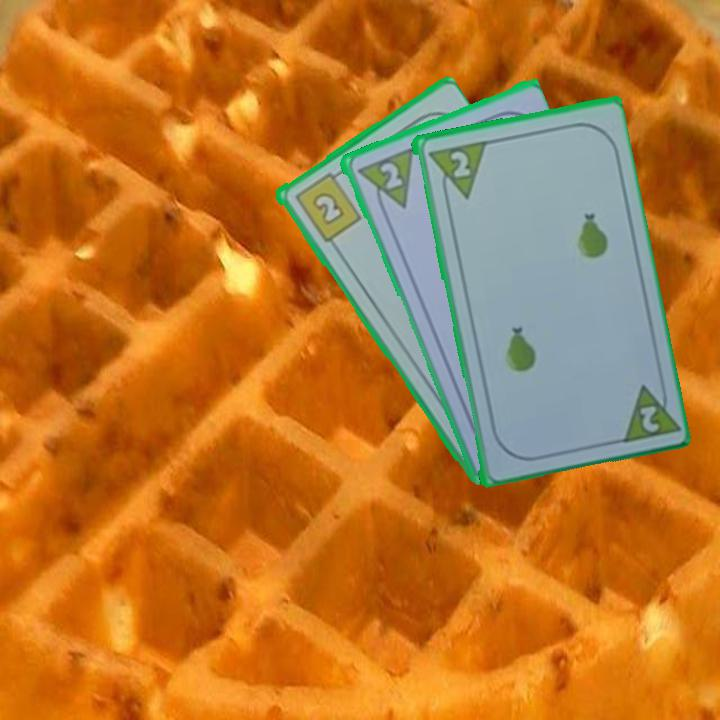2b: (290, 166, 364, 245)
2p: (352, 144, 416, 218), (615, 376, 679, 446), (446, 147, 473, 180)
